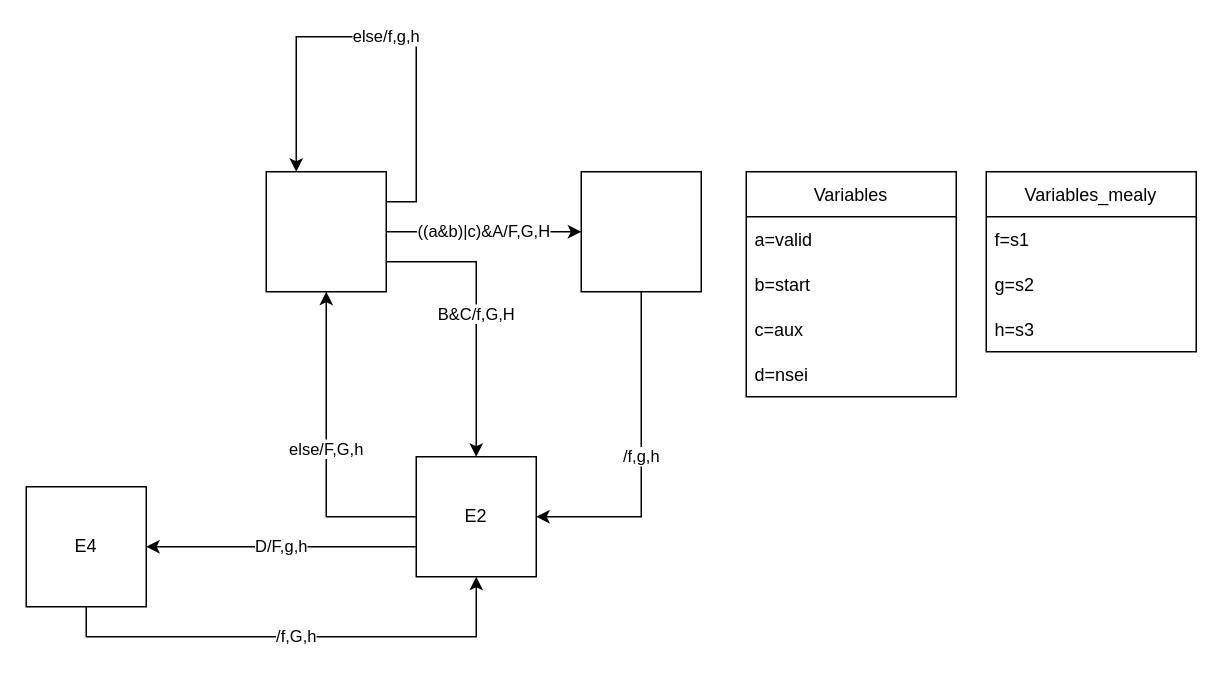
The diagram is 1223 pixels wide and 675 high, and some of its shapes have lost their labels. The shapes that lost their labels are listed below. From the top down, each one's centre as x and y in pixels, then its label:
At pixel 325 231: "E0".
At pixel 640 231: "E1".
